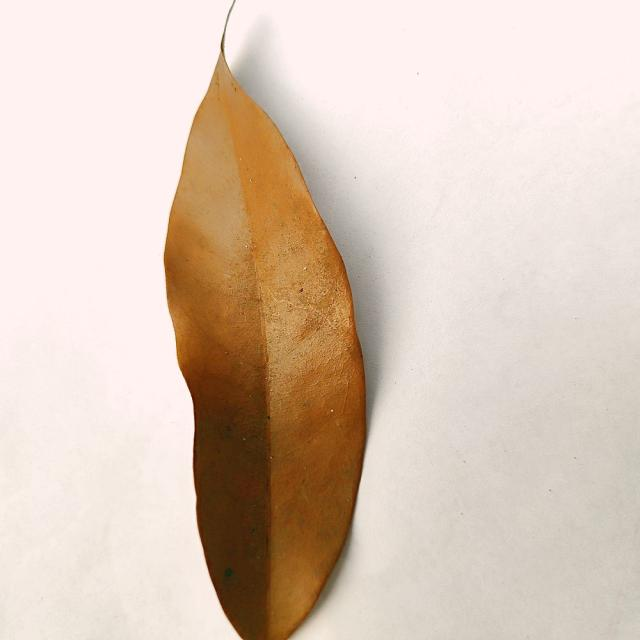Dry_Leaf-Lychee: (163, 43, 368, 639)
